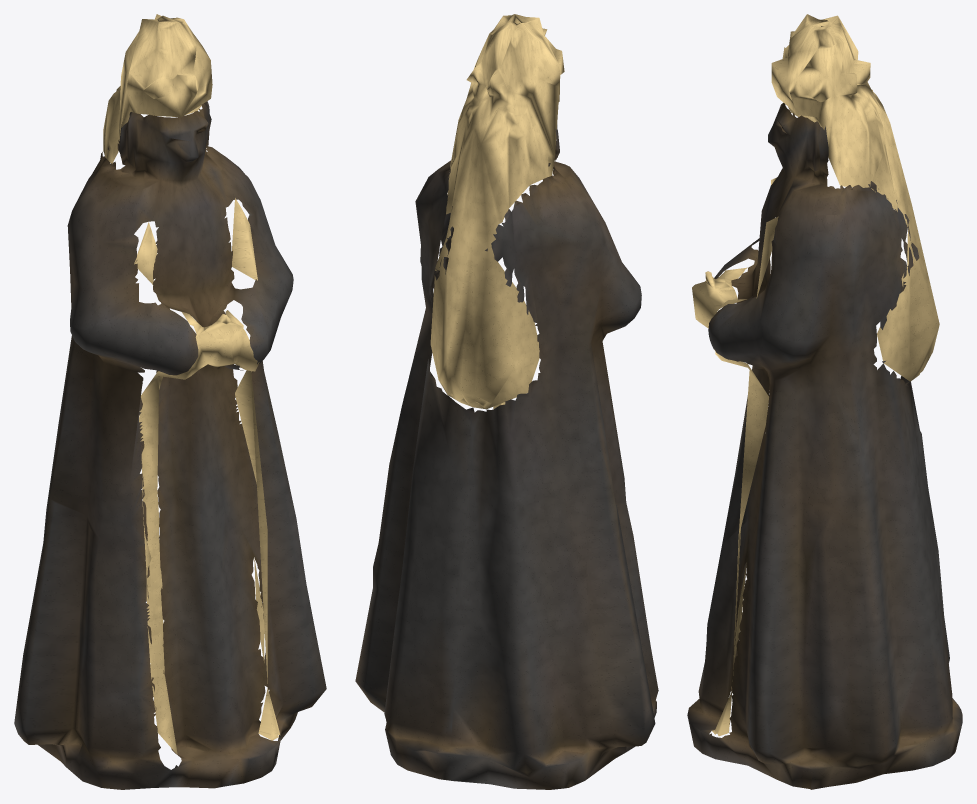
File: Argent_Reliquary_Black_Queen.glb
The picture shows the model from 3 angles, left to right: view 1: azimuth 30°, elevation 25°; view 2: azimuth 150°, elevation 25°; view 3: azimuth 270°, elevation 25°; orthographic projection.
Parts seen in each view (by area): view 1: Argent Reliquary – Black Queen; view 2: Argent Reliquary – Black Queen; view 3: Argent Reliquary – Black Queen.
Part boxes in pixels (x1=…): Argent Reliquary – Black Queen: x1=14, y1=14, x2=326, y2=789; Argent Reliquary – Black Queen: x1=355, y1=14, x2=658, y2=789; Argent Reliquary – Black Queen: x1=687, y1=14, x2=962, y2=789.
Size of the model in its own units: 0.0338 by 0.0861 by 0.0301.
2 materials, 2 textured.
